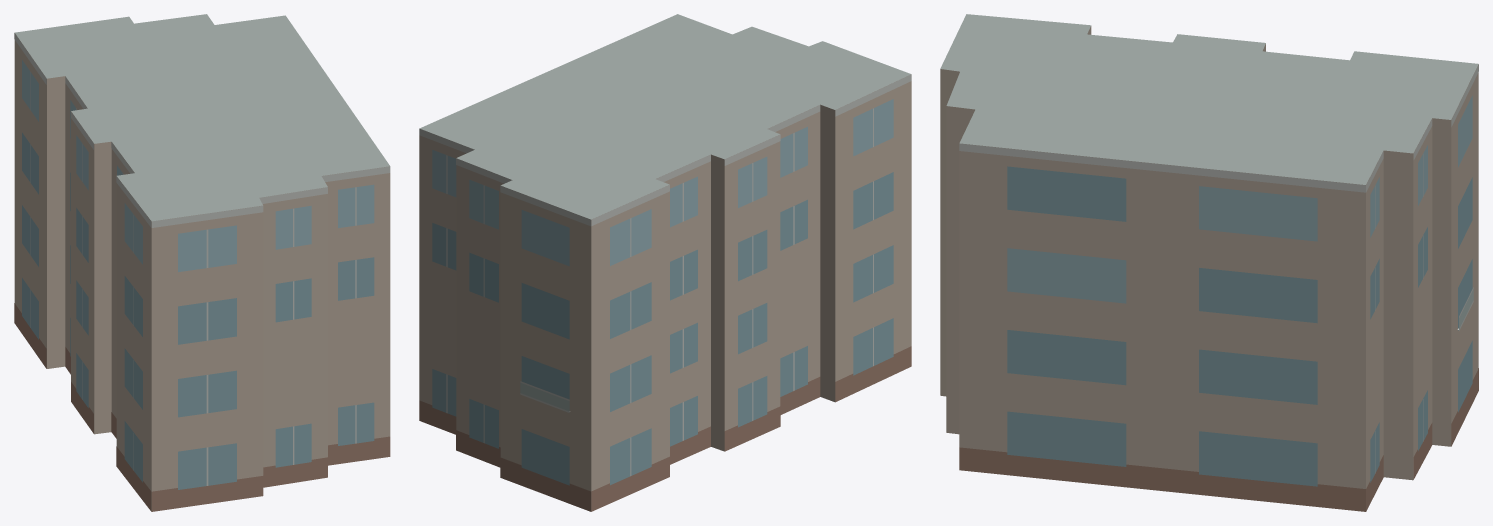
Rendered from survey-upis-32784285.glb.
The picture shows the model from 3 angles, left to right: view 1: azimuth 30°, elevation 25°; view 2: azimuth 150°, elevation 25°; view 3: azimuth 270°, elevation 25°; orthographic projection. The views are drawn at different scales.
Visible parts, largest first — view 1: survey-upis-32784285.tmp; view 2: survey-upis-32784285.tmp; view 3: survey-upis-32784285.tmp.
Boxes of the visible parts, x1,y1,x2,y2 form: survey-upis-32784285.tmp: [14, 14, 390, 511]; survey-upis-32784285.tmp: [419, 14, 911, 511]; survey-upis-32784285.tmp: [940, 14, 1478, 511].
Size of the model in its own units: 11.8 by 10.5 by 15.7.
